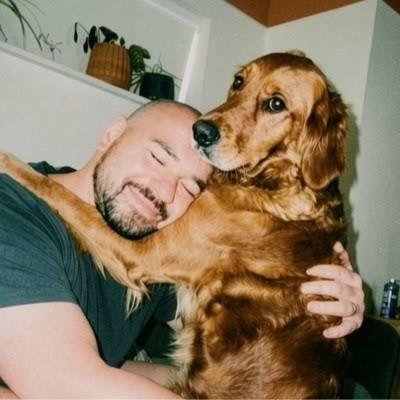adult_dog: (0, 50, 351, 400)
non-dog: (0, 98, 364, 400)
